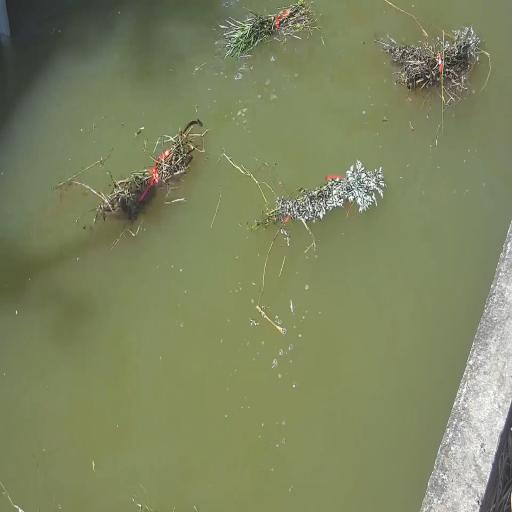twig: (262, 164, 394, 232), (100, 122, 196, 214), (224, 0, 314, 64), (398, 41, 484, 107)
